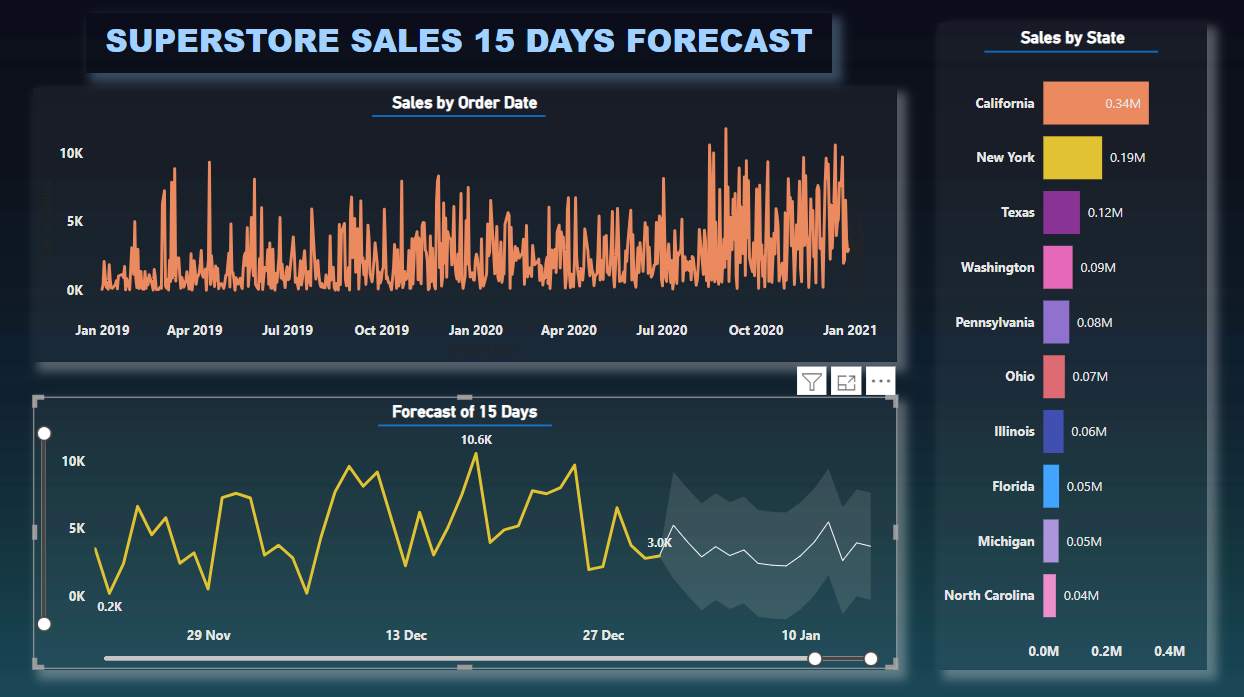

This screenshot's page, from the dashboard's own definition file:
{"tool":"powerbi","page":{"name":"Page 2","canvas":[1280,720],"ordinal":1},"visuals":[{"type":"lineChart","title":"Sales by Order Date","fields":{"Category":["SuperStore_Sales_Dataset.Order Date"],"Y":["Sum(SuperStore_Sales_Dataset.Sales)"]},"box":[37.4,92.9,885.2,281],"z":0},{"type":"lineChart","title":"Forecast of 15 Days","fields":{"Category":["SuperStore_Sales_Dataset.Order Date"],"Y":["Sum(SuperStore_Sales_Dataset.Sales)"]},"box":[37.4,408.8,885.2,279.8],"z":1000},{"type":"clusteredBarChart","title":"Sales by State","fields":{"Y":["Sum(SuperStore_Sales_Dataset.Sales)"],"Category":["SuperStore_Sales_Dataset.State"]},"box":[964.8,25.3,276.2,663.3],"z":2000},{"type":"textbox","box":[90.5,15.7,765.8,61.5],"z":3000},{"type":"shape","box":[384.1,93.9,178,54.9],"z":4000},{"type":"shape","box":[391.5,424.4,178,28],"z":5000},{"type":"shape","box":[1013.4,41.5,178,28],"z":6000}]}

Visuals, with their boxes in screenshot pixels (x1, y1, x2, y2), scaled from the page's 1280x720 canvas onto the 1244x697 screenshot:
"Sales by Order Date" lineChart: pyautogui.locateOnScreen(36, 90, 897, 362)
"Forecast of 15 Days" lineChart: pyautogui.locateOnScreen(36, 396, 897, 667)
"Sales by State" clusteredBarChart: pyautogui.locateOnScreen(938, 24, 1206, 667)
textbox: pyautogui.locateOnScreen(88, 15, 832, 75)
shape: pyautogui.locateOnScreen(373, 91, 546, 144)
shape: pyautogui.locateOnScreen(380, 411, 553, 438)
shape: pyautogui.locateOnScreen(985, 40, 1158, 67)
